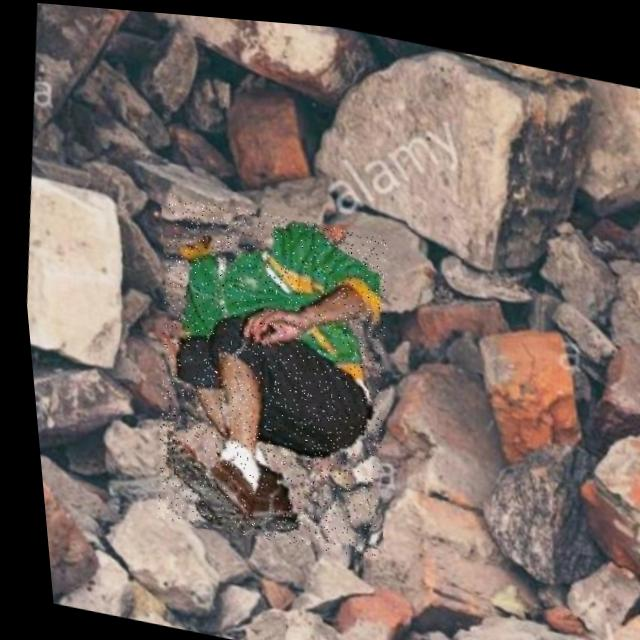Person in Rubble: (124, 188, 407, 558)
